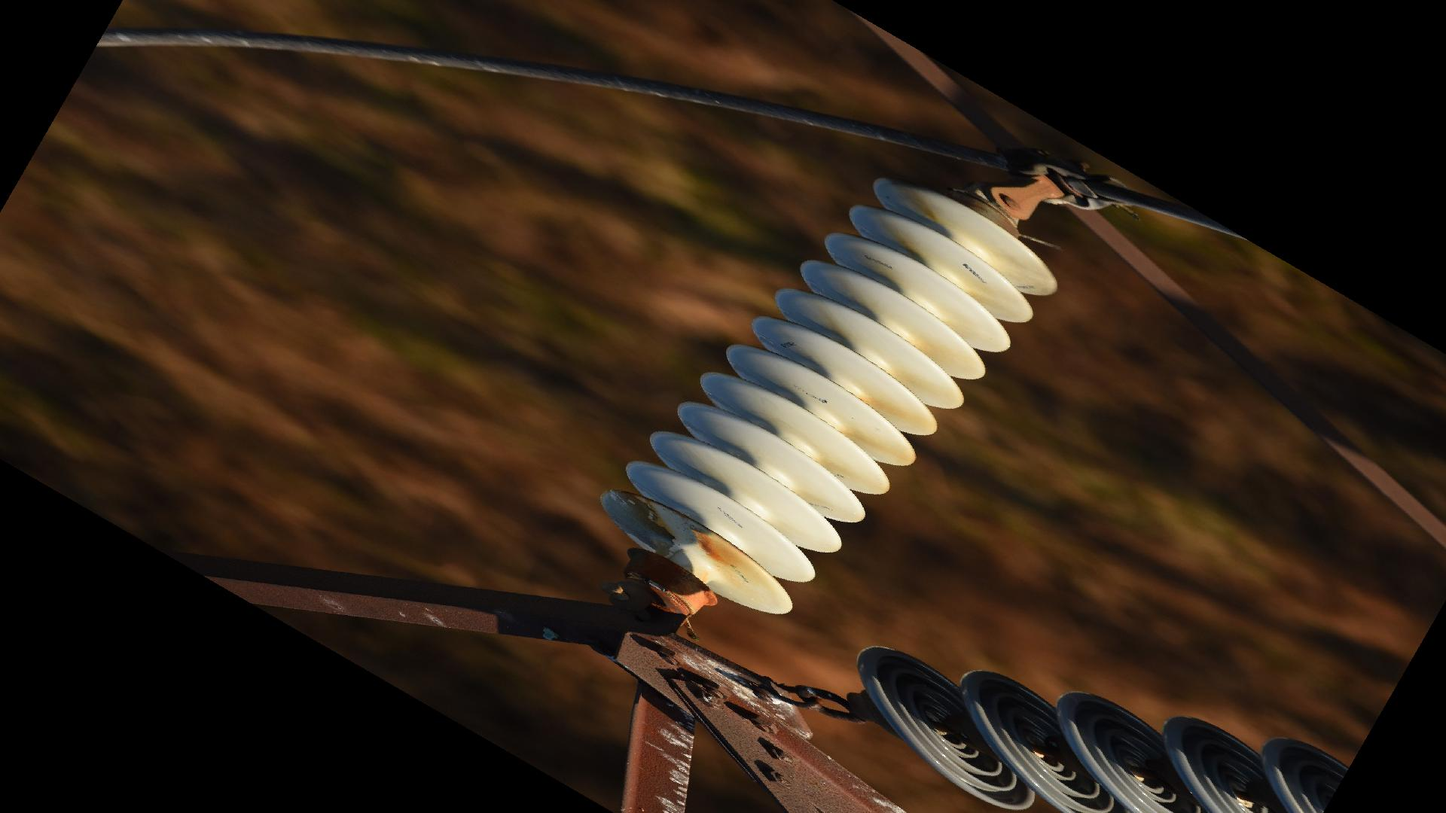insulator: (590, 171, 1066, 623), (847, 637, 1352, 813)
insulator_flashover: (598, 486, 679, 559)
